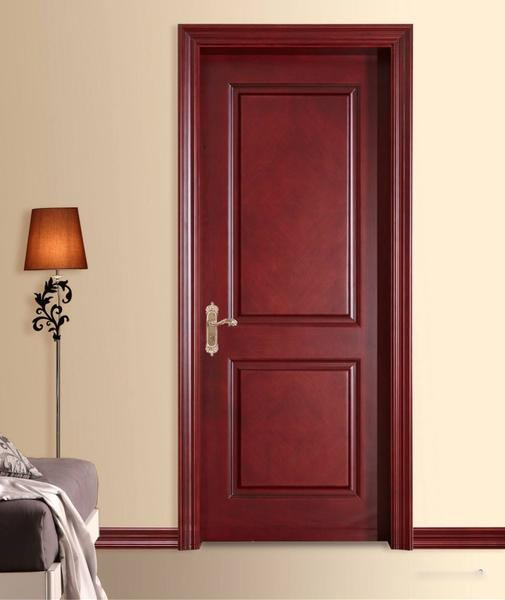door: (179, 26, 406, 547)
